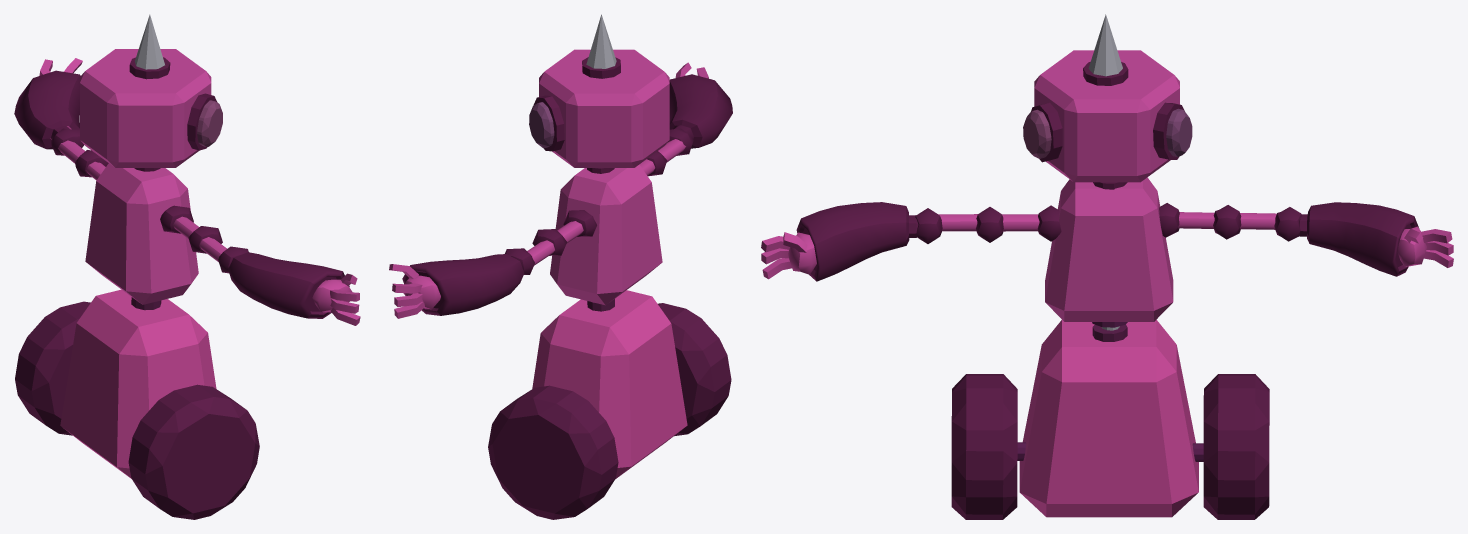
The model's file is robotmodelgame.fbx.
3 views of the same model, side by side, from view 1: azimuth 30°, elevation 25°; view 2: azimuth 150°, elevation 25°; view 3: azimuth 270°, elevation 25° (orthographic). The views are drawn at different scales.
Visible parts, largest first — view 1: Bottom Half, Wheel 1, Head, Chest, Wheel 2, g leftarm group16 pCube2 group11 group15.002, g leftarm group16 pCube2 group11 group15.001, Cone.001, Pupil L, Eye Connection L, g leftarm group16 group15 pCube13 group14.002, g group9 leftarm pCube8.002 (+5 smaller); view 2: Bottom Half, Wheel 2, Head, Chest, Wheel 1, g leftarm group16 pCube2 group11 group15.001, g leftarm group16 pCube2 group11 group15.002, Cone.001, Pupil L.001, Eye Connection R, g leftarm group16 group15 pCube13 group14.001, g group9 leftarm pCube8.001 (+4 smaller); view 3: Bottom Half, Chest, Head, Wheel 2, Wheel 1, g leftarm group16 pCube2 group11 group15.002, g leftarm group16 pCube2 group11 group15.001, Cone.001, Pupil L, Pupil L.001, Eye Connection R, Eye Connection L (+1 smaller).
Boxes of the visible parts, box(x1,y1,x2,y2) form: Bottom Half: box(60, 289, 216, 478); Wheel 1: box(128, 384, 259, 519); Head: box(80, 49, 211, 167); Chest: box(85, 163, 198, 304); Wheel 2: box(15, 301, 90, 435); g leftarm group16 pCube2 group11 group15.002: box(228, 252, 349, 318); g leftarm group16 pCube2 group11 group15.001: box(14, 70, 80, 149); Cone.001: box(135, 14, 164, 69); Pupil L: box(197, 100, 222, 147); Eye Connection L: box(187, 93, 217, 150); g leftarm group16 group15 pCube13 group14.002: box(312, 279, 352, 312); g group9 leftarm pCube8.002: box(160, 205, 193, 233); Bottom Half: box(532, 290, 687, 478); Wheel 2: box(488, 385, 618, 519); Head: box(539, 49, 669, 167); Chest: box(550, 164, 662, 305); Wheel 1: box(658, 303, 731, 436); g leftarm group16 pCube2 group11 group15.001: box(402, 254, 524, 315); g leftarm group16 pCube2 group11 group15.002: box(669, 74, 732, 148); Cone.001: box(586, 14, 616, 68); Pupil L.001: box(529, 102, 554, 148); Eye Connection R: box(533, 95, 564, 151); g leftarm group16 group15 pCube13 group14.001: box(404, 275, 440, 309); g group9 leftarm pCube8.001: box(563, 210, 596, 236); Bottom Half: box(1019, 320, 1198, 517); Chest: box(1045, 177, 1173, 321); Head: box(1034, 50, 1179, 182); Wheel 2: box(1203, 374, 1269, 519); Wheel 1: box(951, 374, 1017, 519); g leftarm group16 pCube2 group11 group15.002: box(796, 202, 918, 281); g leftarm group16 pCube2 group11 group15.001: box(1298, 202, 1419, 276); Cone.001: box(1088, 14, 1122, 76); Pupil L: box(1023, 109, 1051, 158); Pupil L.001: box(1166, 108, 1192, 156); Eye Connection R: box(1153, 102, 1184, 159); Eye Connection L: box(1031, 102, 1062, 162).
Bounding box in the file's own units: 490 × 1514 × 1884.
